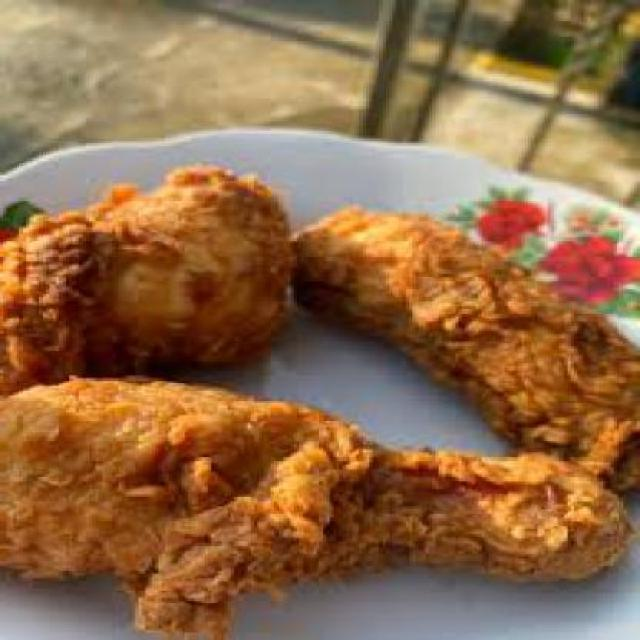Chicken -Fried Chicken-: (0, 378, 633, 640), (289, 205, 640, 496), (0, 165, 295, 399)
